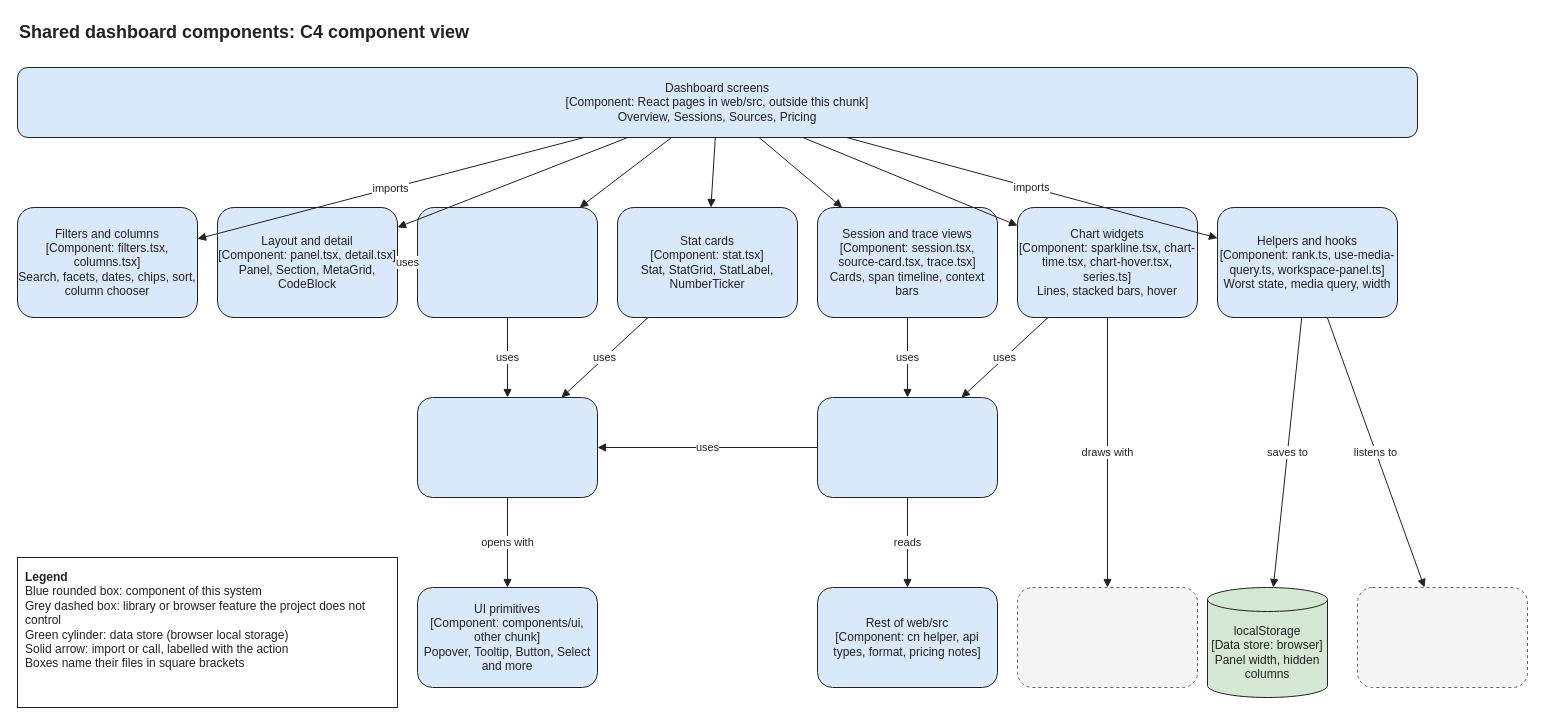
The diagram is 1545 pixels wide and 725 high, and some of its shapes have lost their labels. Each missing label, with the centre of its shape:
Browser media queries [External system] window.matchMedia: [1442,637]
Metric info [Component: metric-info.tsx] Hover and focus explanation box: [507,447]
Page states [Component: states.tsx] Empty, error, offline, skeleton, warnings: [507,262]
recharts [External library] Bar chart, axes, reference lines: [1107,637]
Signals [Component: status.tsx] Badges, meters, bucket bar, key list: [907,447]
